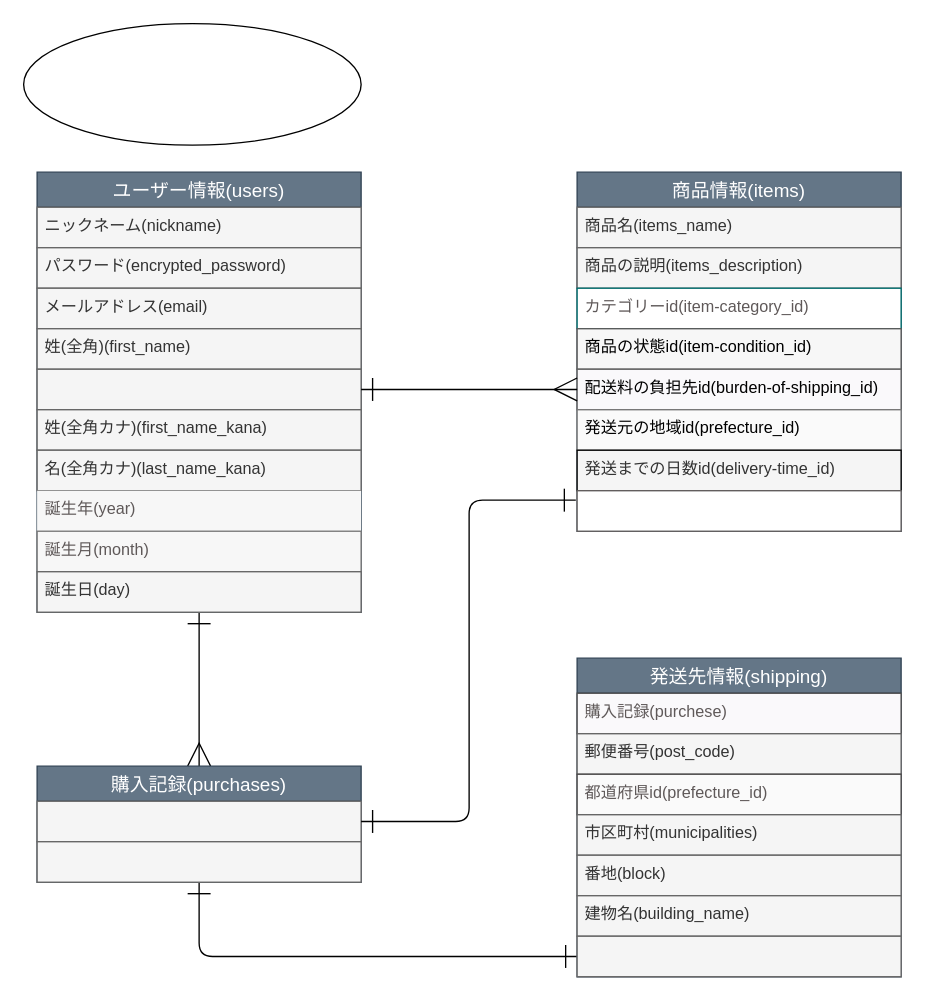
The diagram is 925 pixels wide and 1004 high, and some of its shapes have lost their labels. The shapes that lost their labels are listed below. From the top down, each one's centre as x and y in pixels, then its label:
At (x=191, y=83): "furima-40045のER図".
At (x=198, y=389): "名(全角)(last_name)".
At (x=738, y=510): "価格の情報(販売価格)(item_price)".
At (x=198, y=821): "ユーザー情報(user)".
At (x=198, y=861): "商品情報(item)".
At (x=738, y=956): "電話番号(phone_number)".
